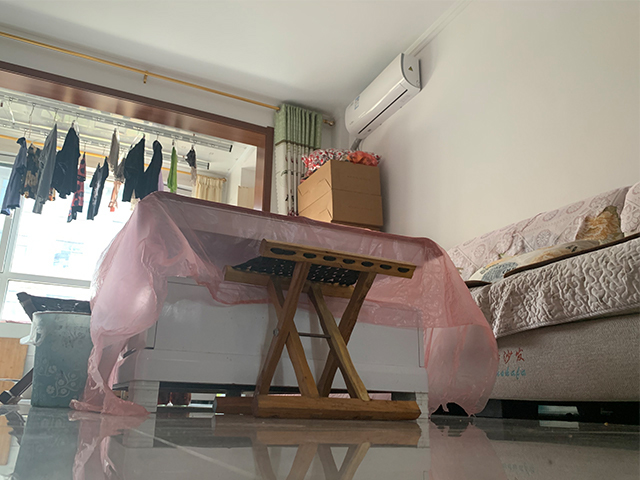sofa: (445, 182, 640, 422)
stool: (209, 236, 423, 422)
table: (105, 190, 499, 419)
trashcan: (29, 309, 94, 408)
